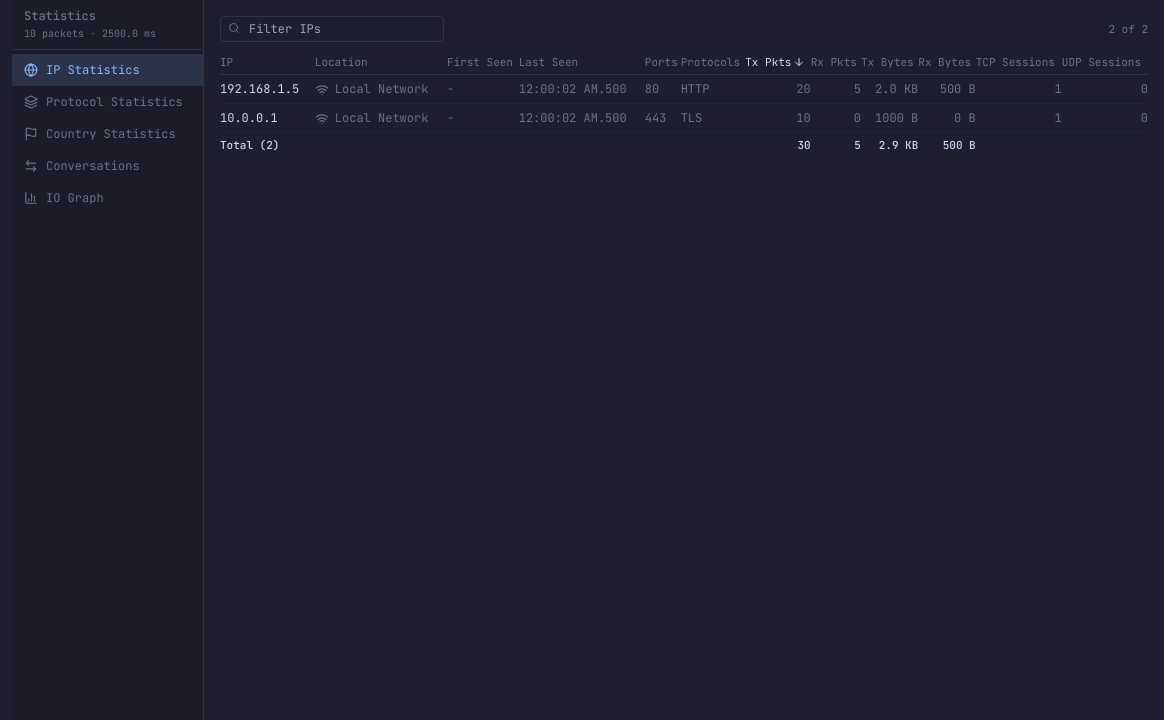
it: StatsTabs › filters IPs by address in IP Statistics view
The width and height of the screenshot is (1164, 720).
Expected: the text "10.0.0.1" is shown, [220, 104, 315, 132]
Step 1. Type "192" into the field labelled "Filter IPs" → [332, 29], box [220, 16, 444, 42]
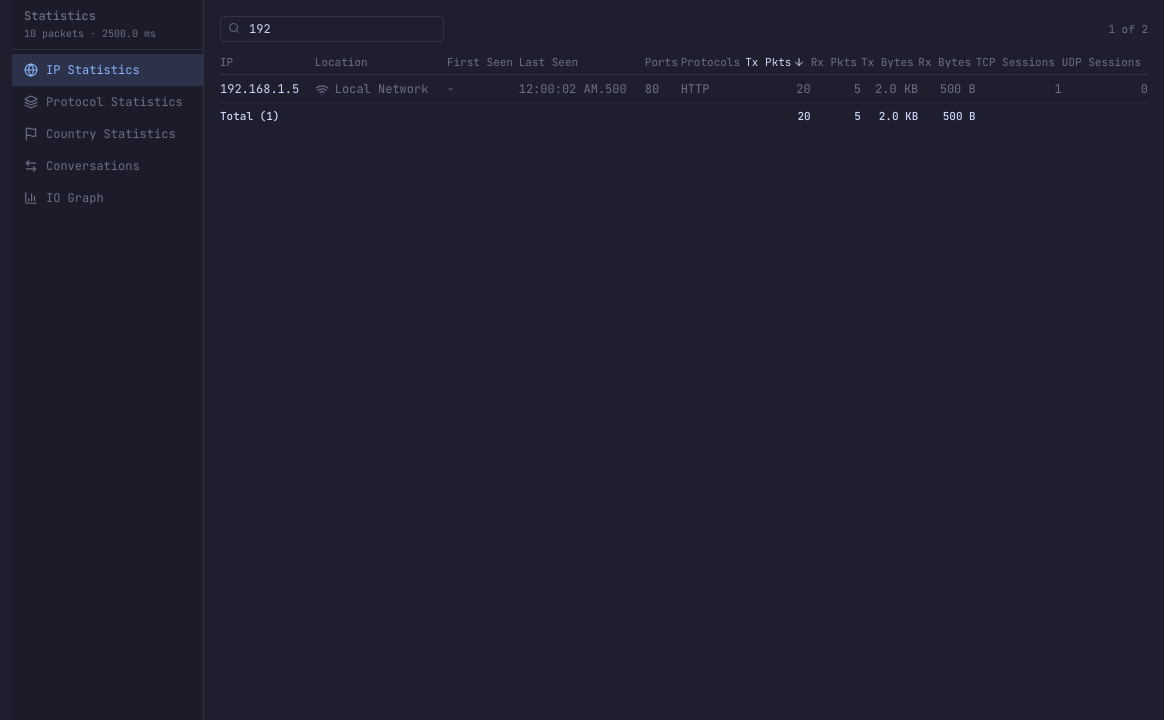
Expected: the text "192.168.1.5" is shown, [220, 74, 315, 104]
Expected: the text "10.0.0.1" is gone
